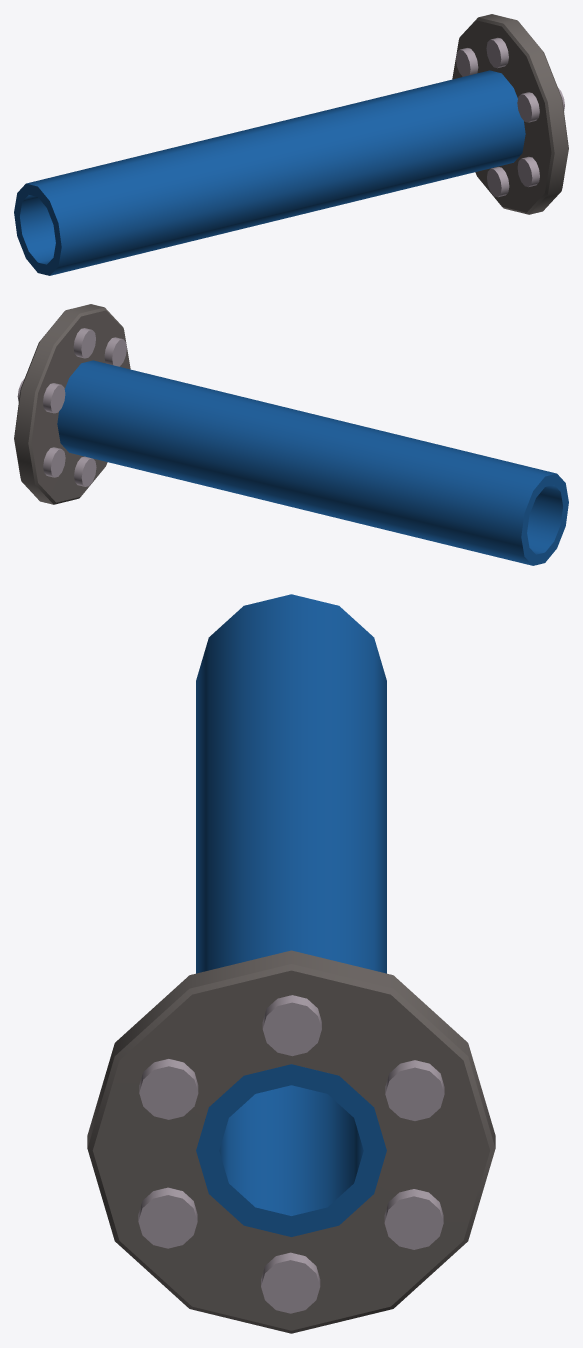
File: Pipe-Half.fbx
3 views of the same model, one above another, from view 1: azimuth 30°, elevation 25°; view 2: azimuth 150°, elevation 25°; view 3: azimuth 270°, elevation 25° (orthographic). The views are drawn at different scales.
Visible parts, largest first — view 1: Pipe-Half; view 2: Pipe-Half; view 3: Pipe-Half.
Part boxes in pixels (x1,y1,x2,y2): Pipe-Half: (14,14,568,275); Pipe-Half: (14,304,568,565); Pipe-Half: (87,594,495,1333).
Bounding box in the file's own units: 7.26 × 2.62 × 2.62.
